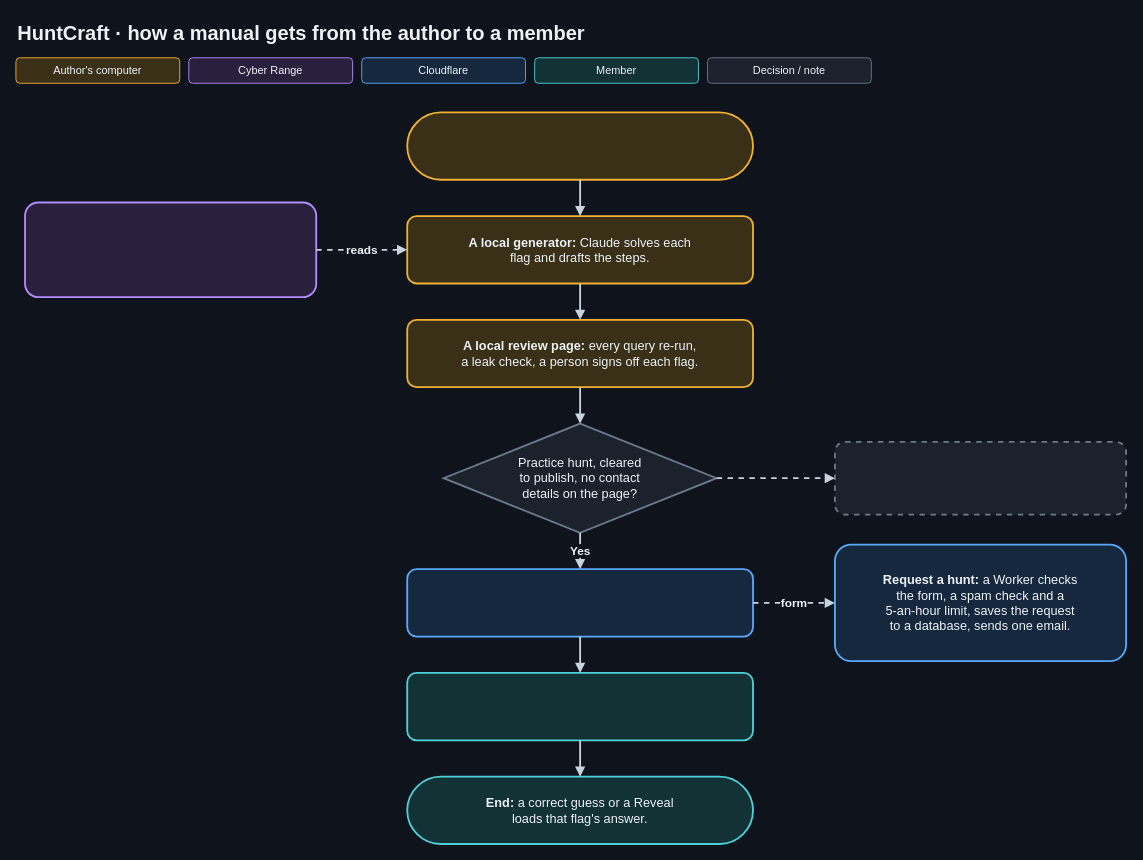
The diagram is 1143 pixels wide and 860 high, and some of its shapes have lost their labels. The centre of each missing label's shape, as x and y in pixels:
Cloudflare Pages: a plain page with the steps and queries, no answers inside.: the point at 579,602
Cyber Range MCP: read-only log searches over the hunt's own workspace.: the point at 170,249
No: the build stops. A live hunt never ships.: the point at 980,477
Start: a practice hunt's questions on the author's computer.: the point at 579,145
The member runs each query in their own Microsoft Defender .: the point at 579,706
